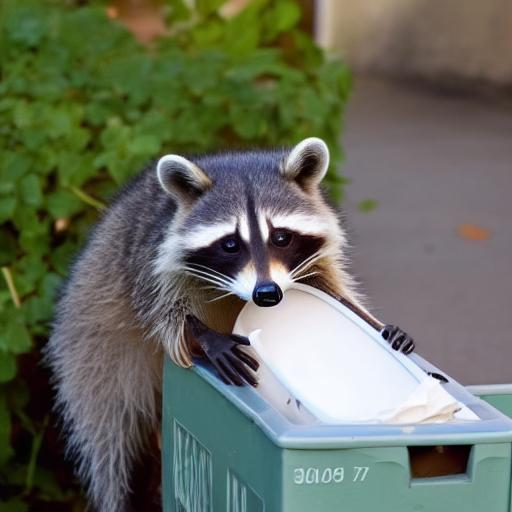raccoon: (35, 130, 356, 512)
